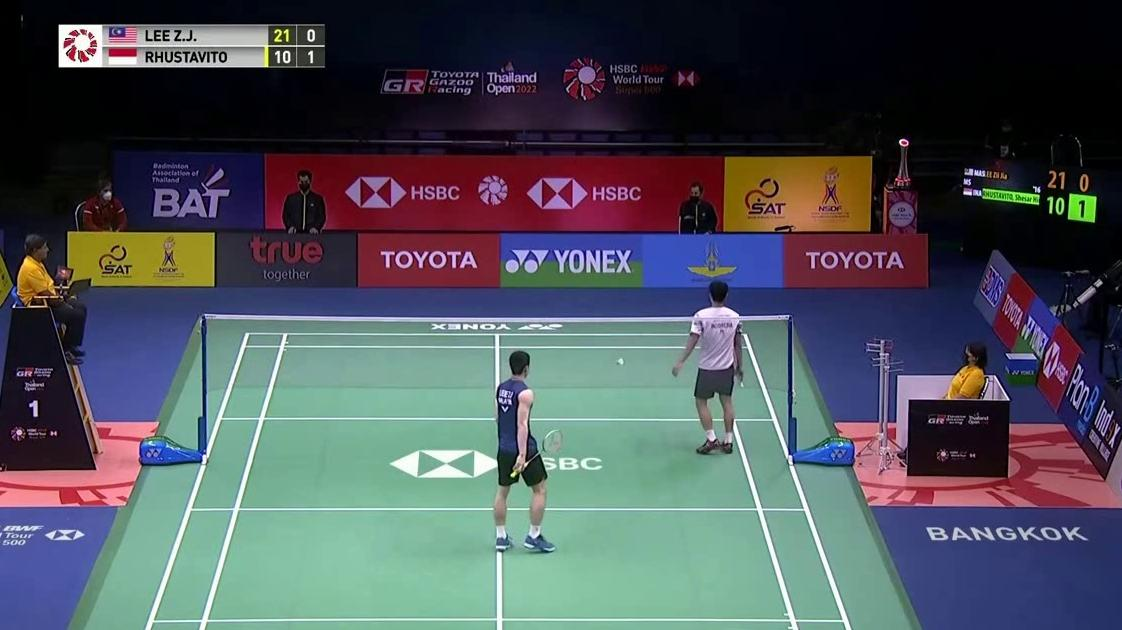racket: (511, 429, 564, 476)
shuttle: (614, 356, 625, 365)
